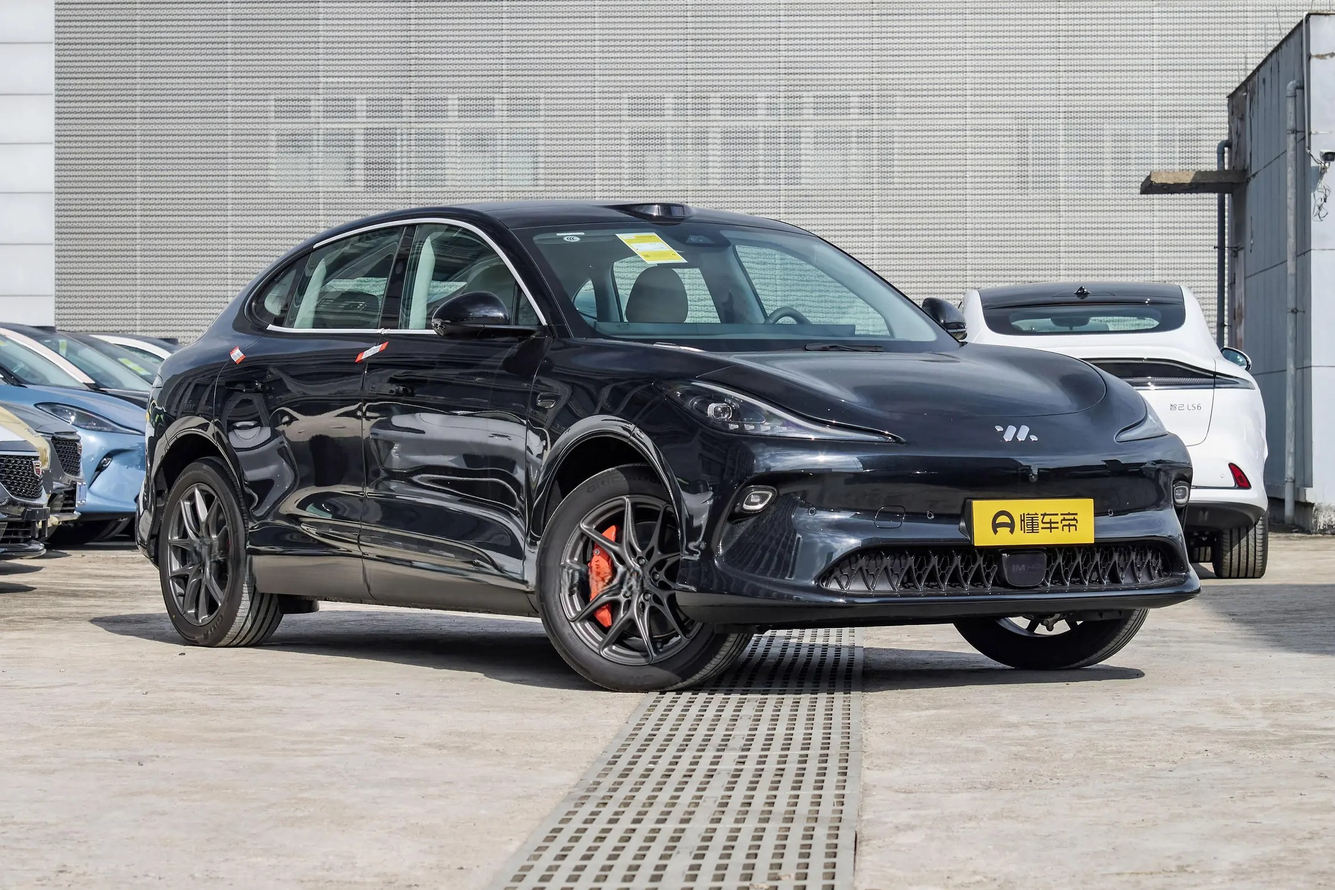IM: (995, 425, 1038, 442)
